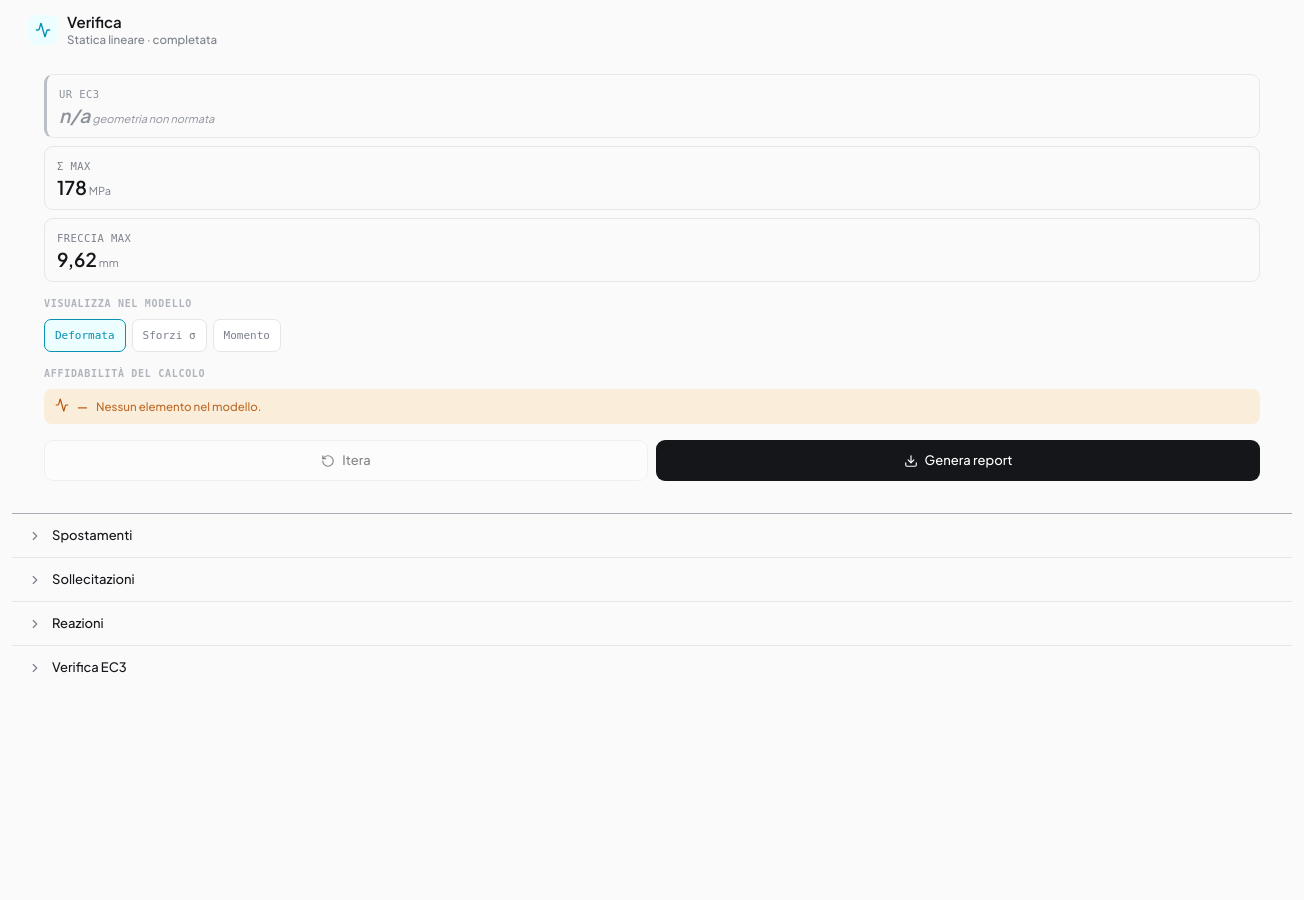
ResultsTabsPanel · v3.4 Fetta E2.5c (accordion verticale) › click di nuovo su Spostamenti head: chiude (body smontato)
Click the button with test id "results-section-displacements-head" at x=92, y=535, box [12,514,1292,557]
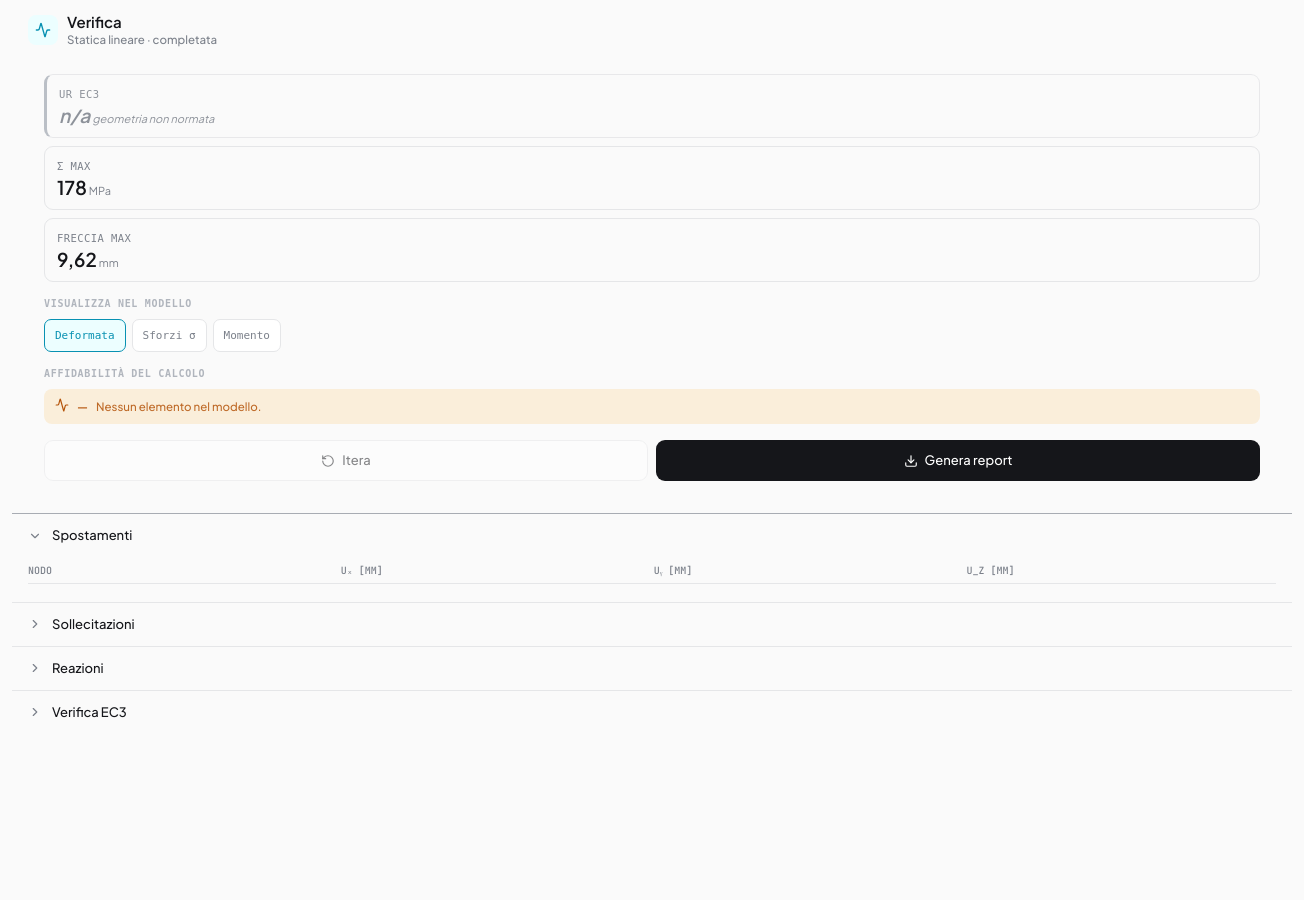
Check: the element with test id "results-section-displacements-body" is shown, box [28,561,1276,584]
Click the button with test id "results-section-displacements-head" at x=92, y=535, box [12,514,1292,557]
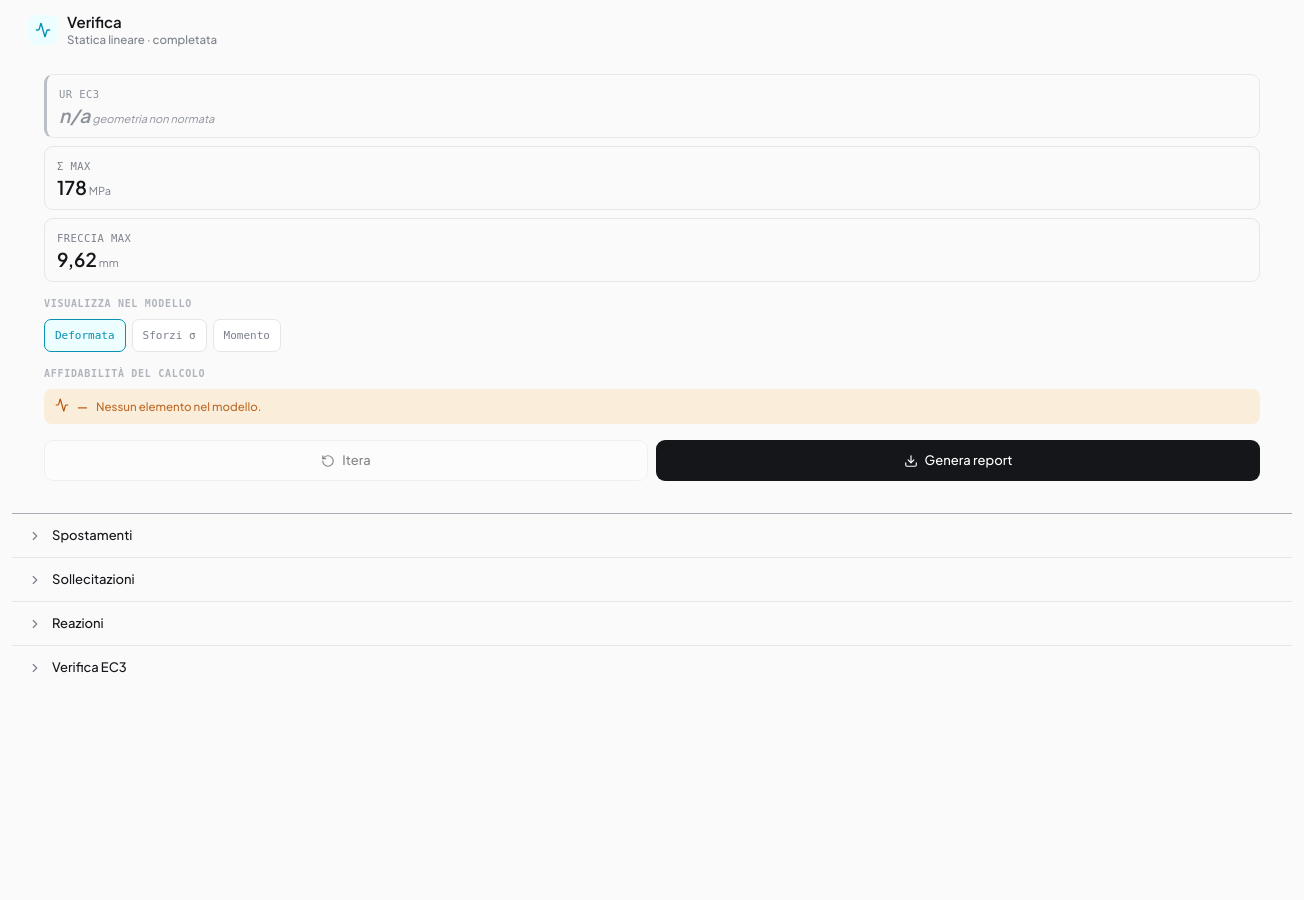
Check: the element with test id "results-section-displacements-body" is gone
